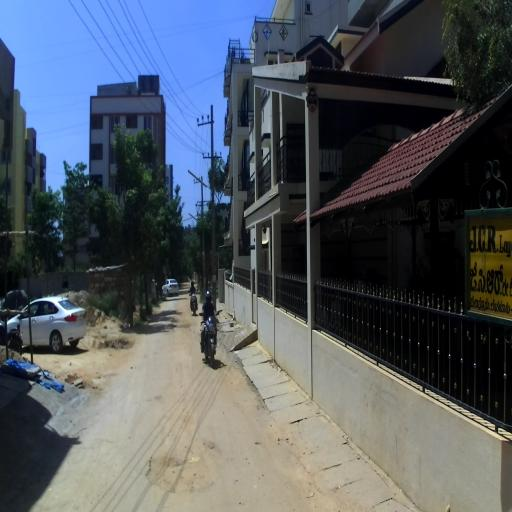street_light_0: (188, 170, 215, 204), (189, 212, 204, 231)
